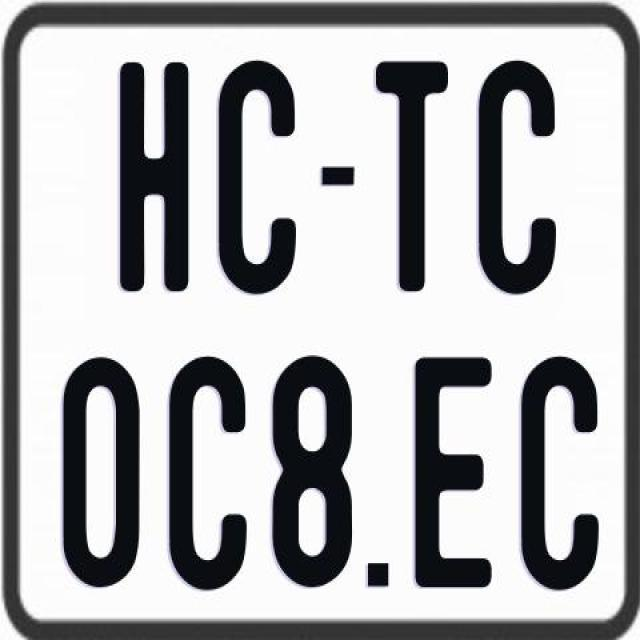0: (60, 357, 143, 589)
8: (270, 354, 354, 594)
C: (477, 61, 563, 300), (215, 61, 298, 304), (522, 357, 602, 600), (170, 356, 250, 598)
E: (412, 353, 492, 582)
H: (116, 62, 192, 296)
T: (374, 60, 452, 298)
